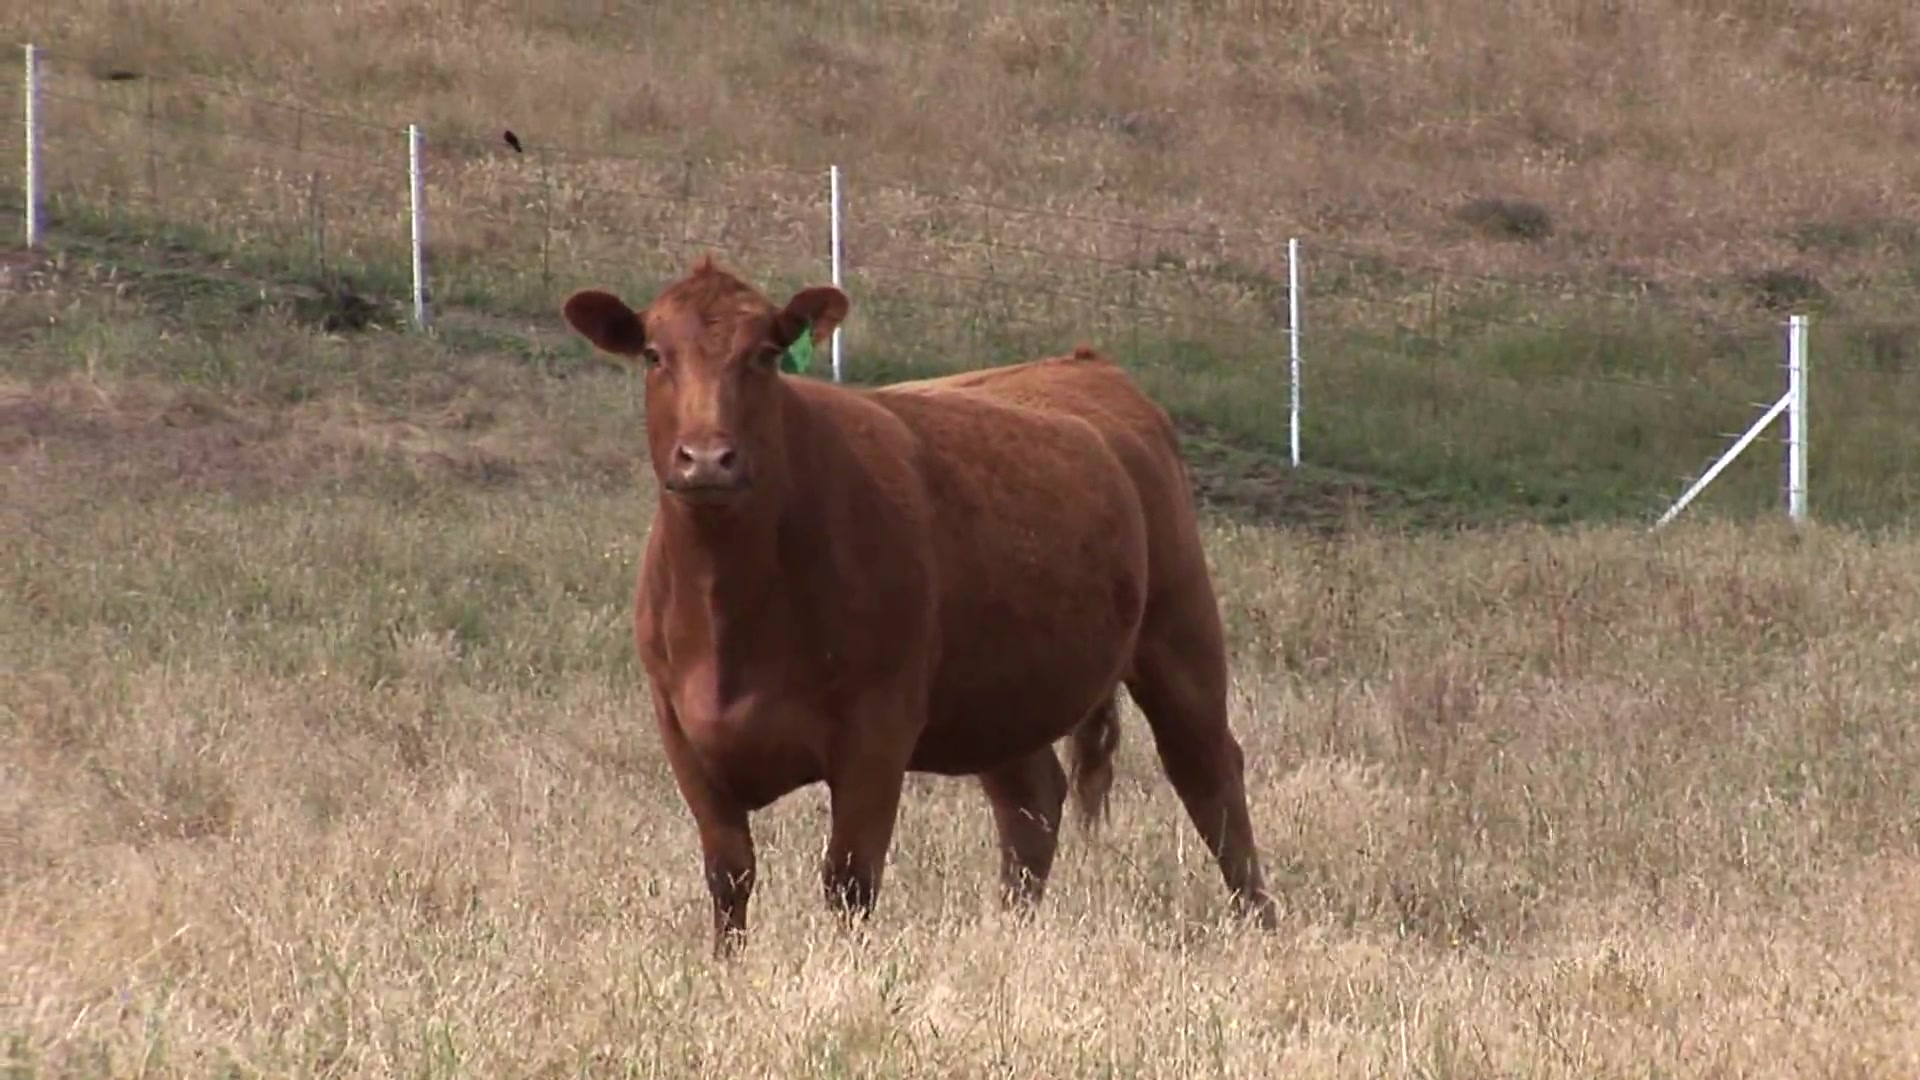cow: (556, 260, 1278, 928)
